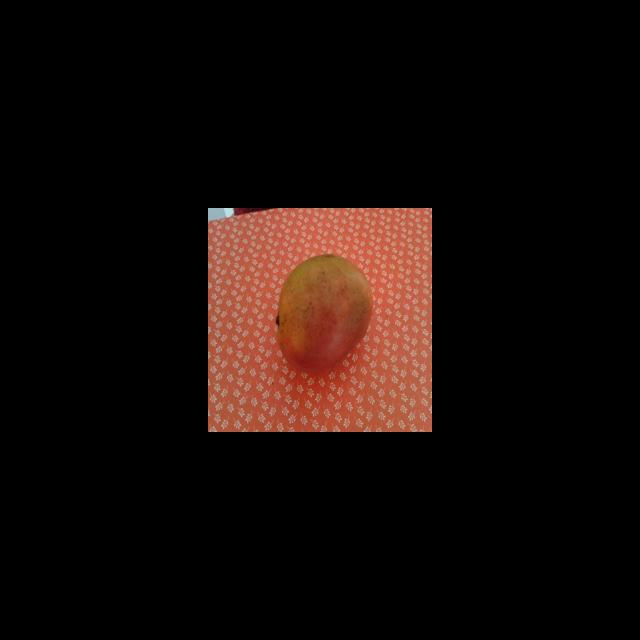Mango: (275, 253, 373, 370)
